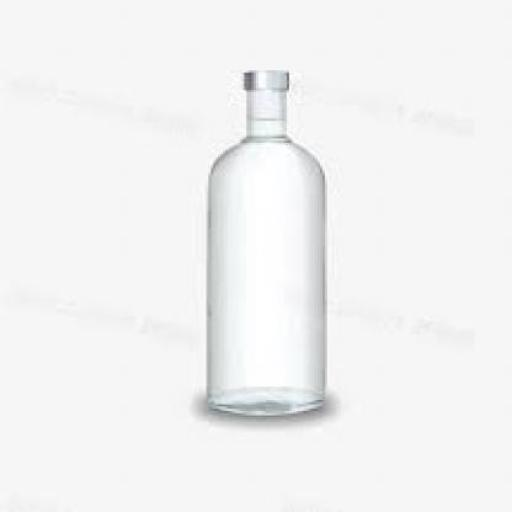glass: (209, 86, 329, 416)
metal: (249, 70, 291, 90)
